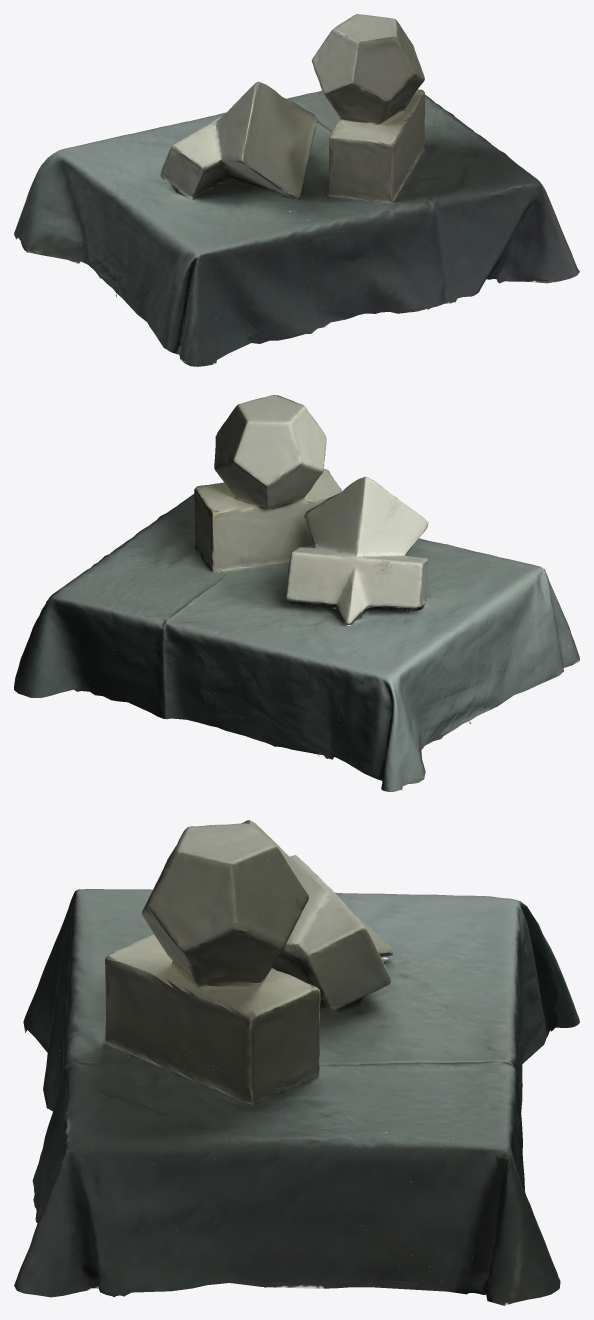
File: 静物_几何体_十二面体堆叠11_opt.glb
3 views of the same model, one above another, from view 1: azimuth 30°, elevation 25°; view 2: azimuth 150°, elevation 25°; view 3: azimuth 270°, elevation 25° (orthographic). The views are drawn at different scales.
Visible parts, largest first — view 1: defaultMat, defaultMat_1; view 2: defaultMat, defaultMat_1; view 3: defaultMat, defaultMat_1.
Boxes of the visible parts, x1=… form: defaultMat: x1=14, y1=14, x2=579, y2=366; defaultMat_1: x1=21, y1=17, x2=554, y2=366; defaultMat: x1=14, y1=395, x2=579, y2=791; defaultMat_1: x1=16, y1=395, x2=579, y2=791; defaultMat: x1=14, y1=820, x2=579, y2=1305; defaultMat_1: x1=24, y1=824, x2=571, y2=1299.
Bounding box in the file's own units: 0.5341 × 0.3 × 0.4352.
1 material, 1 textured.
